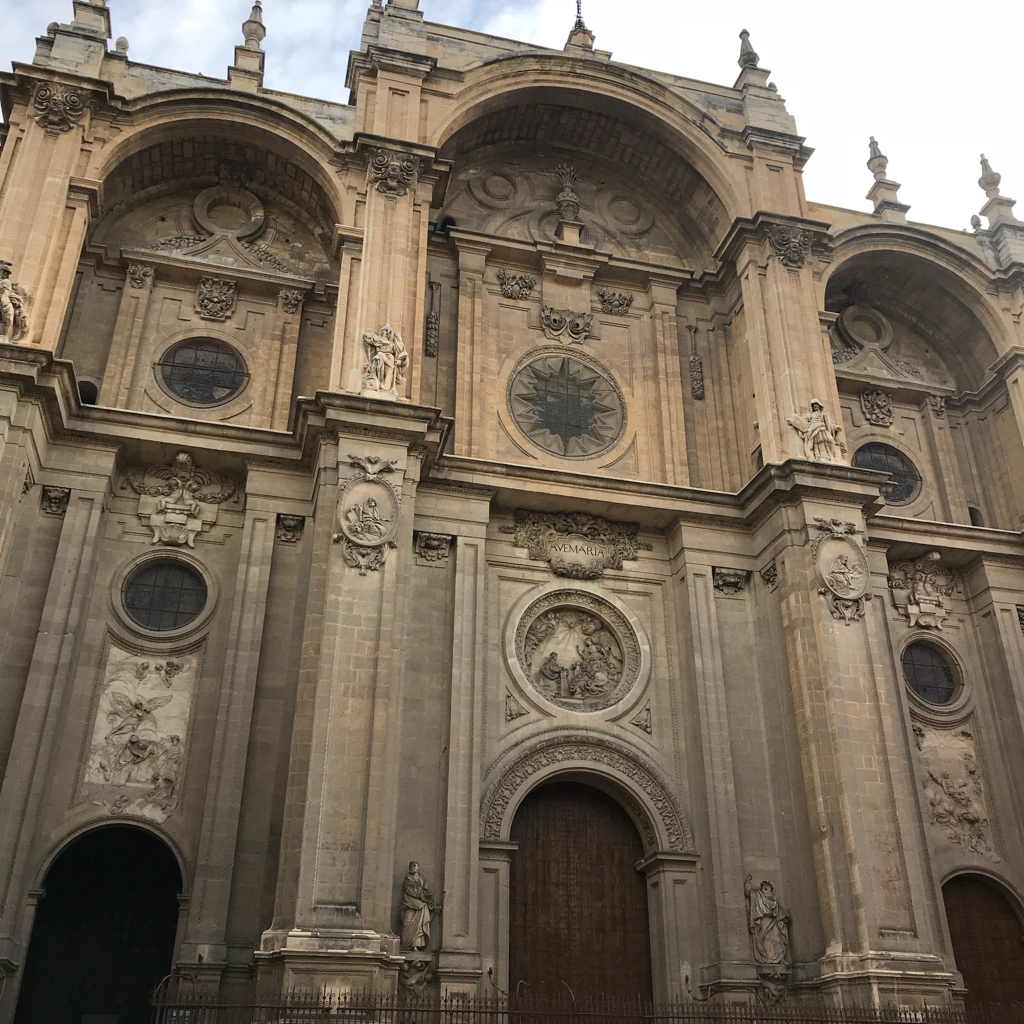arco-medio-punto: (417, 76, 751, 250), (73, 100, 354, 249), (817, 235, 1024, 374), (500, 763, 670, 890), (26, 807, 187, 917), (941, 862, 1024, 939)
ojo-de-buey: (115, 547, 221, 641), (150, 327, 253, 414), (852, 435, 929, 514), (897, 629, 969, 711)
